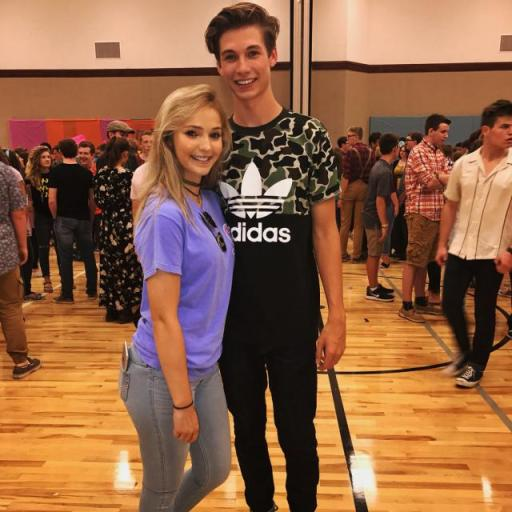Adidas: (219, 160, 294, 246)
